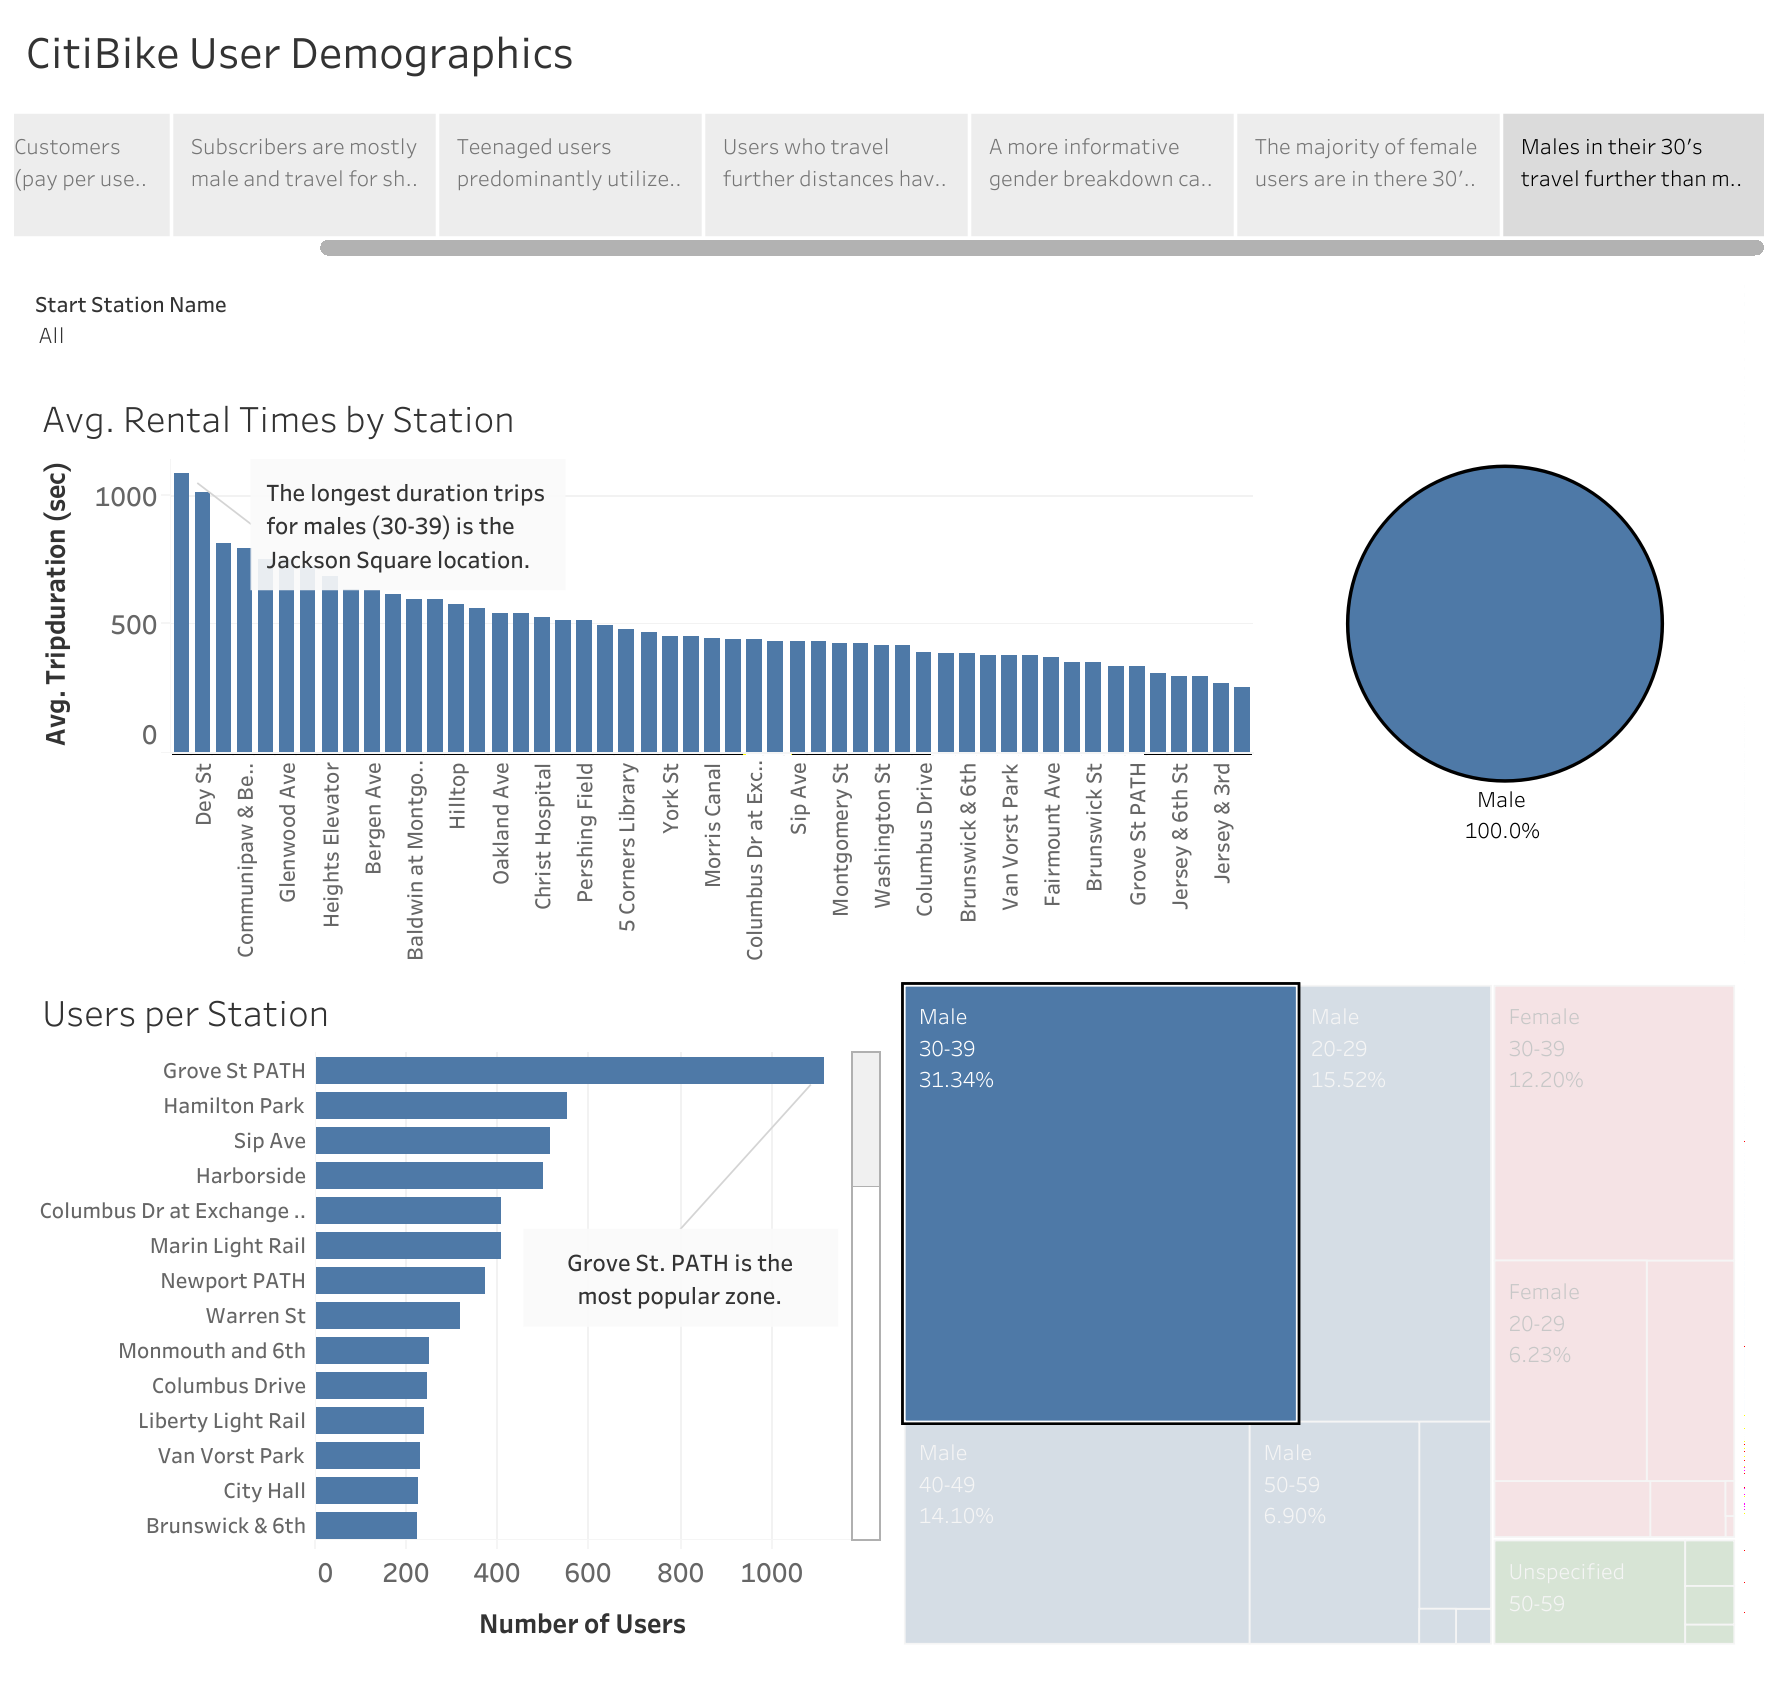

The dashboard page shown, as its layout file describes it:
{"tool":"tableau","page":{"name":"Gender Stats DB","canvas":[1000,1000],"units":"permille","ordinal":0},"visuals":[{"type":"filter","title":"Avg. Rental Times by Station","param":"[federated.1djbkvf0iddfvb16h6xlh0xldu7f].[none:start station name:nk]","box":[6.2,9.6,706.8,69.7]},{"type":"worksheet","title":"Gender","mark":"Pie","box":[713,9.6,280.8,490.4]},{"type":"worksheet","title":"Avg. Rental Times by Station","mark":"Automatic","rows":["tripduration"],"cols":["start station name"],"box":[6.2,79.3,706.8,420.7]},{"type":"worksheet","title":"Users per Station","mark":"Automatic","rows":["start station name"],"cols":["Number of Records"],"box":[6.2,500,493.8,490.4]},{"type":"worksheet","title":"Gender-Age Treemap","mark":"Automatic","box":[500,500,493.8,490.4]}]}

Visuals, with their boxes on the dashboard's canvas, which has no fixed pixel size, in thousandths of its width and height (x1, y1, x2, y2). These are canvas units, not pixel positions in the 1776x1685 screenshot, which may show the page scaled, cropped or inside an application window:
"Avg. Rental Times by Station" filter: <region>6, 10, 713, 79</region>
"Gender" worksheet (Pie marks): <region>713, 10, 994, 500</region>
"Avg. Rental Times by Station" worksheet: <region>6, 79, 713, 500</region>
"Users per Station" worksheet: <region>6, 500, 500, 990</region>
"Gender-Age Treemap" worksheet: <region>500, 500, 994, 990</region>
